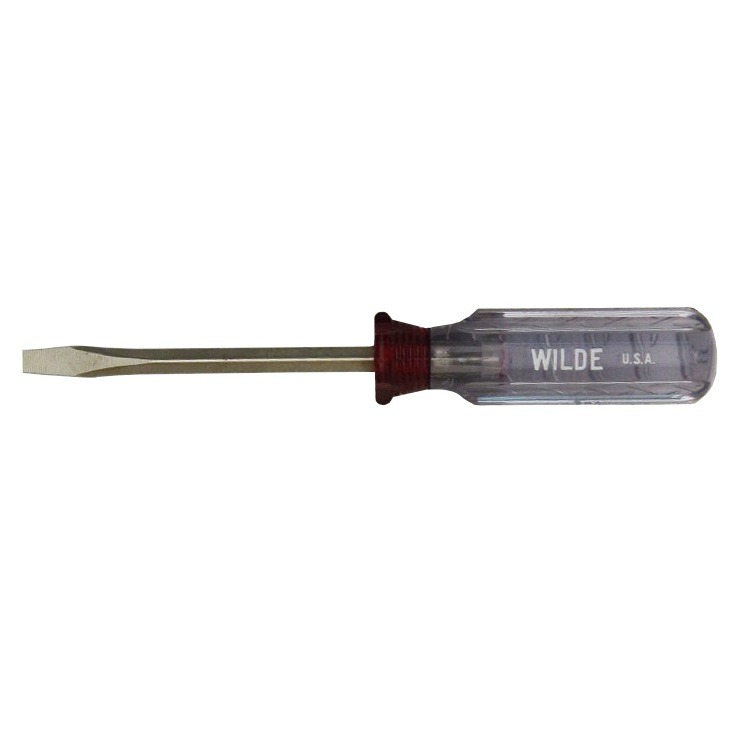screwdriver: (17, 301, 717, 412)
